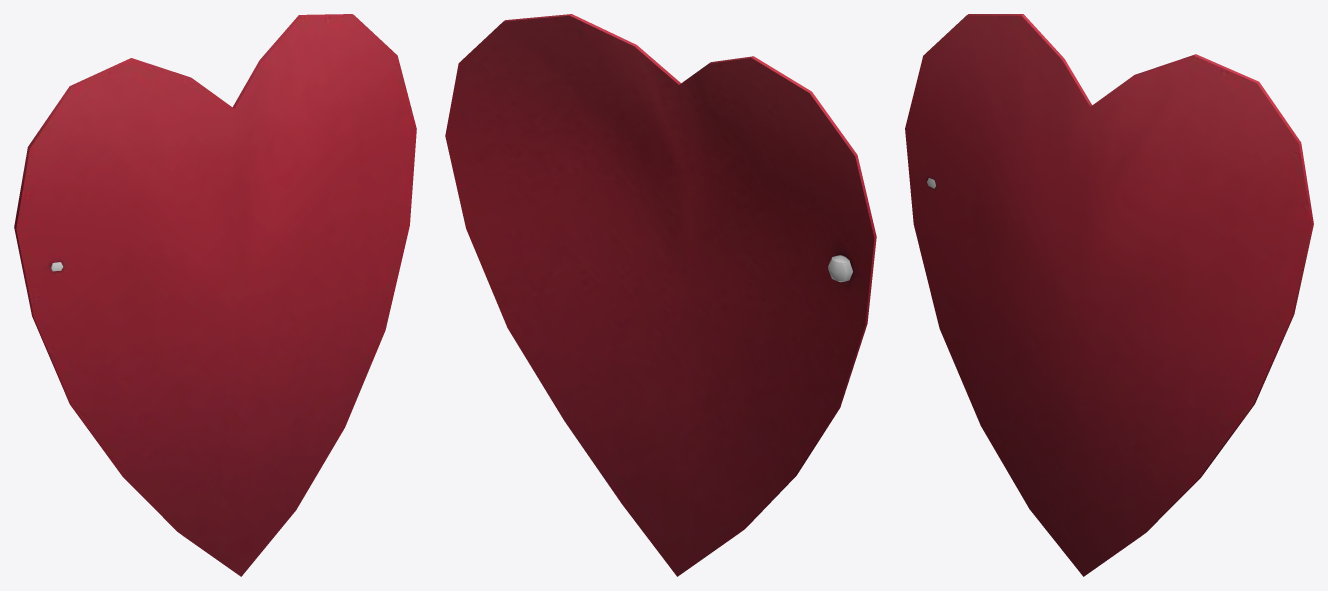
3 renders of one model, left to right at view 1: azimuth 30°, elevation 25°; view 2: azimuth 150°, elevation 25°; view 3: azimuth 330°, elevation 25°, orthographic. The views are drawn at different scales.
Parts seen in each view (by area): view 1: Velvet_rose_petal; view 2: Velvet_rose_petal; view 3: Velvet_rose_petal.
Boxes of the visible parts, x1=… form: Velvet_rose_petal: x1=14, y1=14, x2=416, y2=576; Velvet_rose_petal: x1=445, y1=14, x2=876, y2=576; Velvet_rose_petal: x1=905, y1=14, x2=1313, y2=576.
Size of the model in its own units: 0.76 by 0.94 by 0.1155.
Materials: 2 (2 with a texture image).
